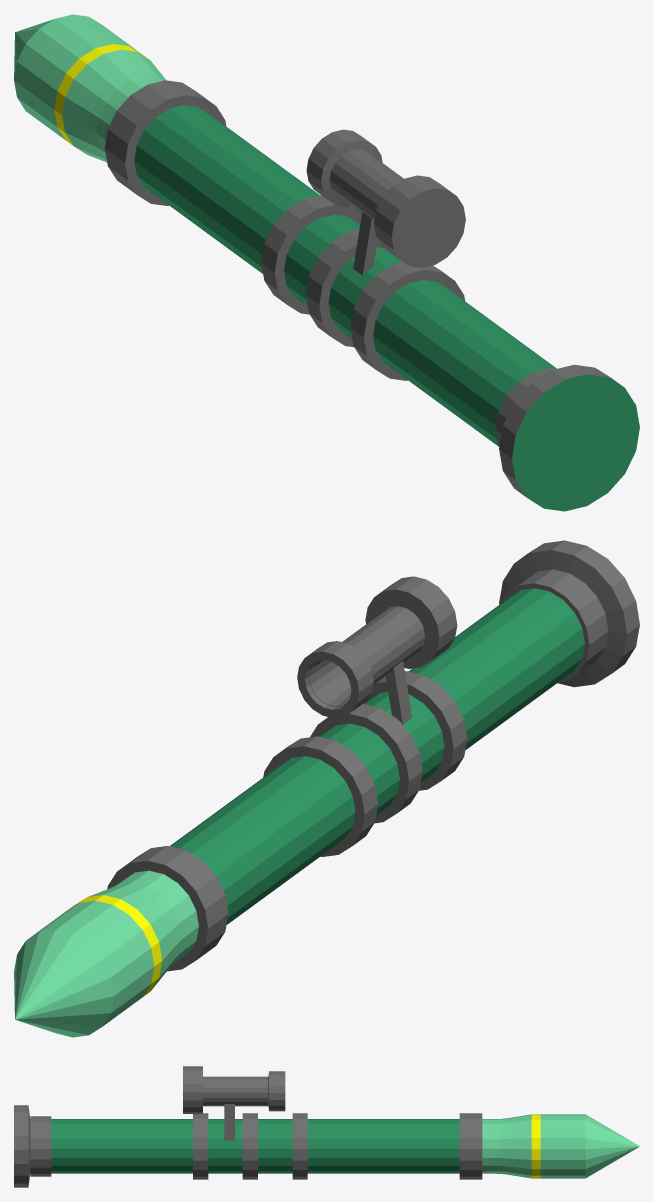
The model's file is 84549908-03f1-48aa-941d-3b95a8cde9fe.glb.
3 views of the same model, one above another, from view 1: azimuth 30°, elevation 25°; view 2: azimuth 150°, elevation 25°; view 3: azimuth 270°, elevation 25° (orthographic). The views are drawn at different scales.
Visible parts, largest first — view 1: Cylinder003, Cylinder004; view 2: Cylinder003, Cylinder004; view 3: Cylinder003, Cylinder004.
Part boxes in pixels (box(x1,y1,x2,y2)): Cylinder003: box(14, 14, 639, 511); Cylinder004: box(306, 129, 465, 275); Cylinder003: box(14, 540, 639, 1037); Cylinder004: box(297, 576, 457, 724); Cylinder003: box(14, 1105, 639, 1187); Cylinder004: box(183, 1066, 285, 1140).
Bounding box in the file's own units: 38644 × 59686 × 293270.
